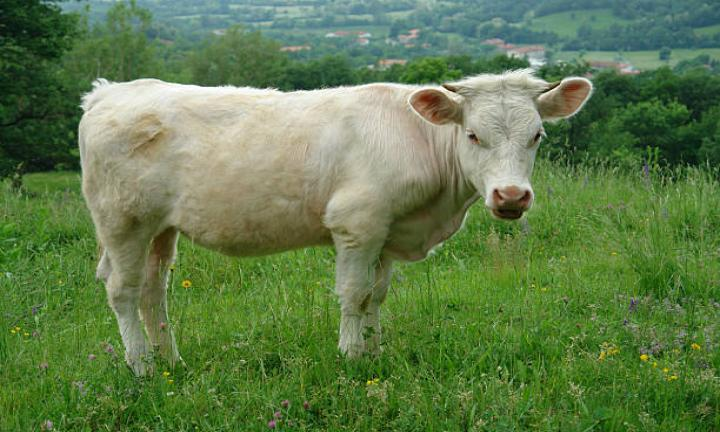Charolais: (79, 71, 592, 372)
